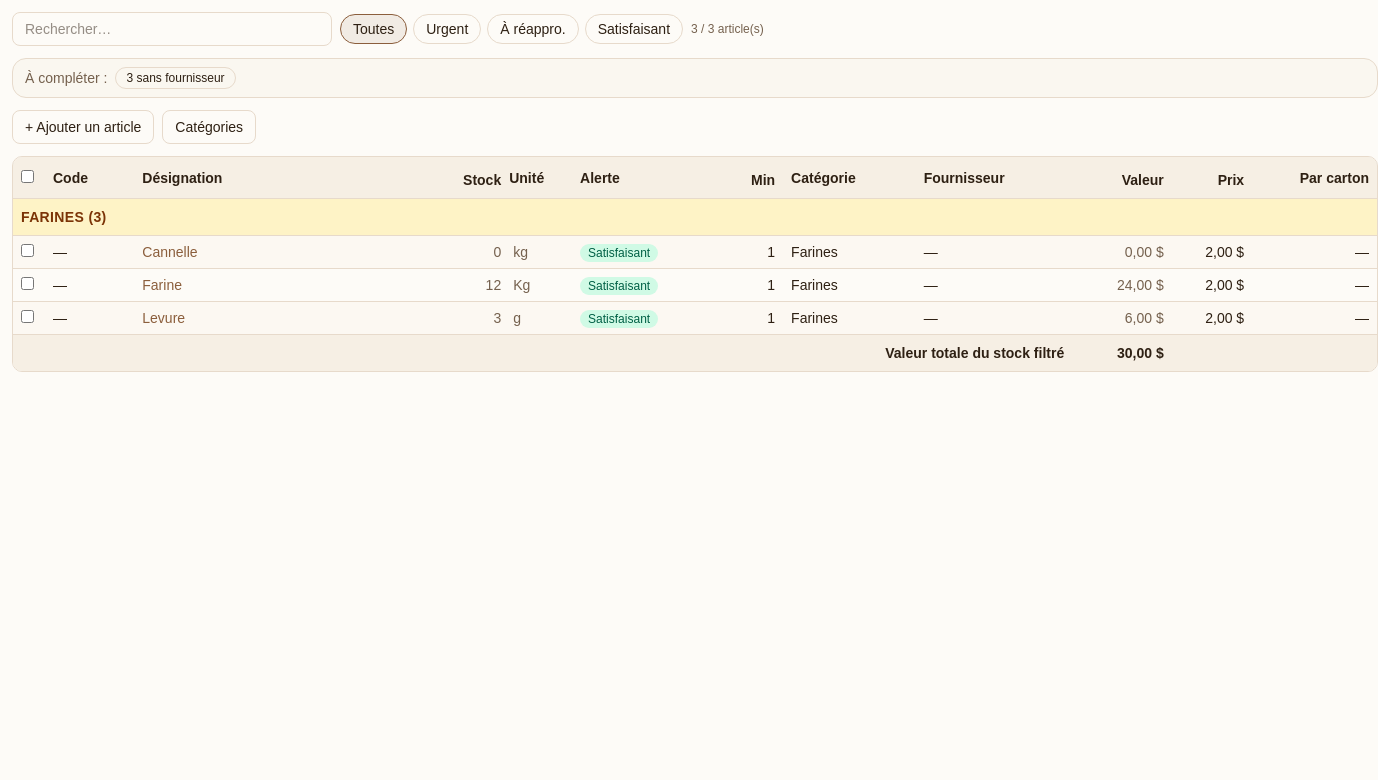
Test: suppression groupée : aperçu, confirmation, compte rendu › l'aperçu nomme ce qui part et ce qui reste ; rien n'est supprimé avant la confirmation
Click the checkbox named "Sélectionner Cannelle".
click(28, 250)  # box [21,244,34,257]
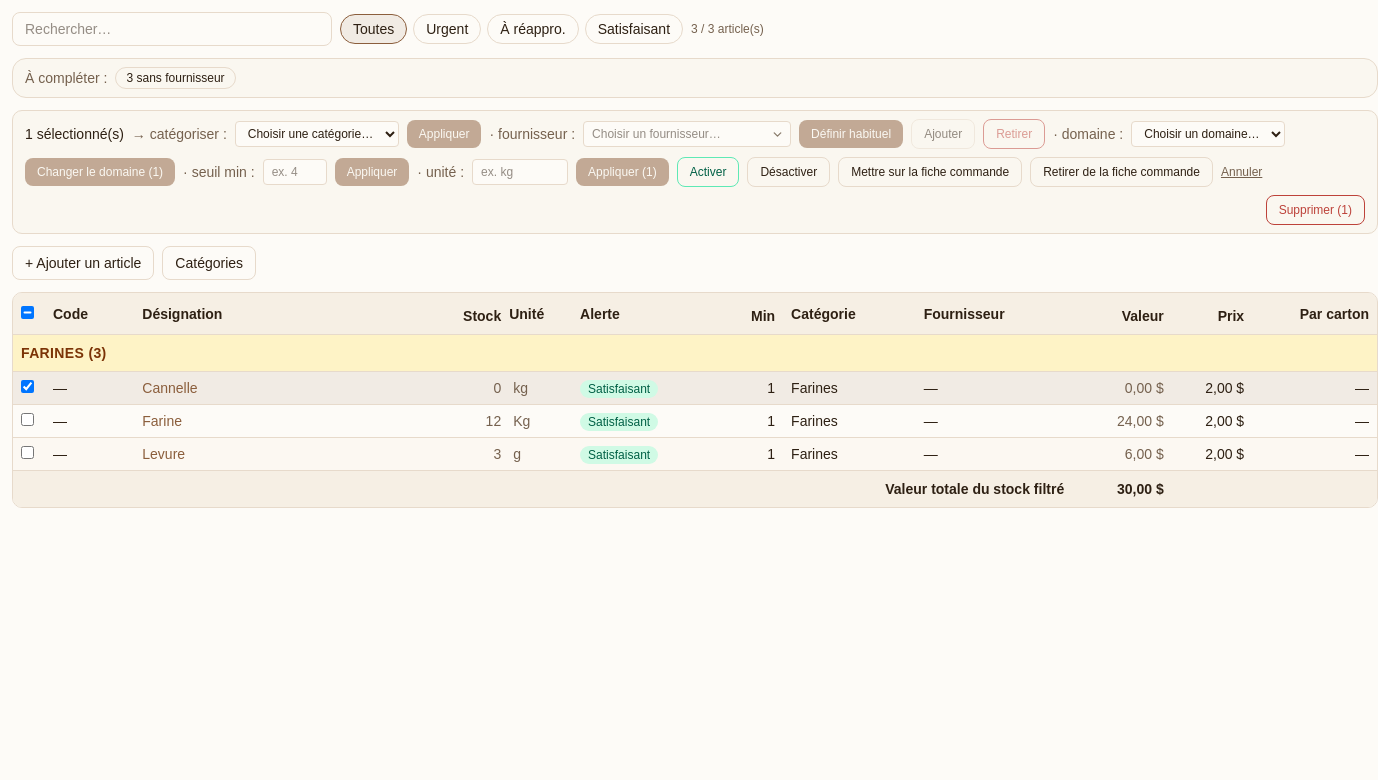
Click the checkbox named "Sélectionner Farine".
click(28, 420)  # box [21,413,34,426]
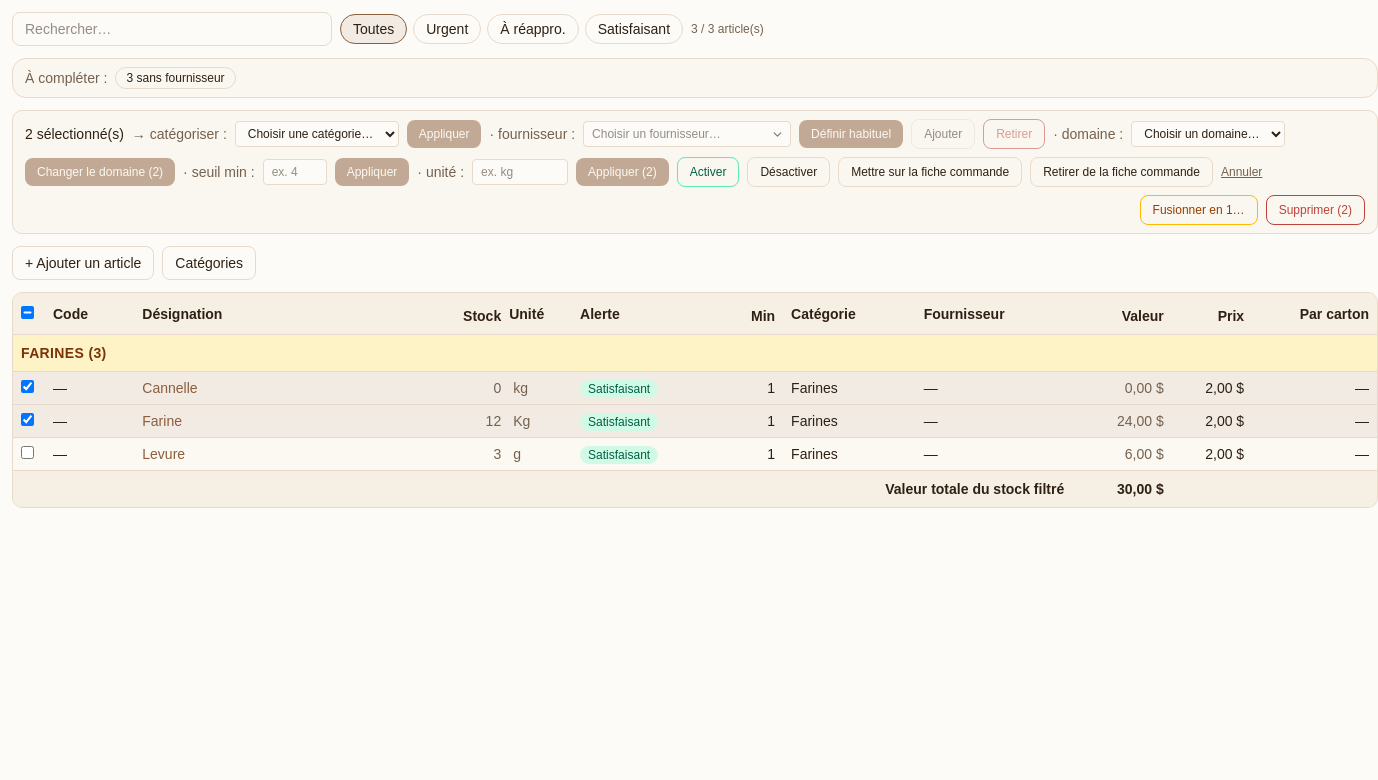
expect the button "Supprimer (2)" is shown: met
Click the button "Supprimer (2)".
click(1315, 210)  # box [1266,195,1365,225]
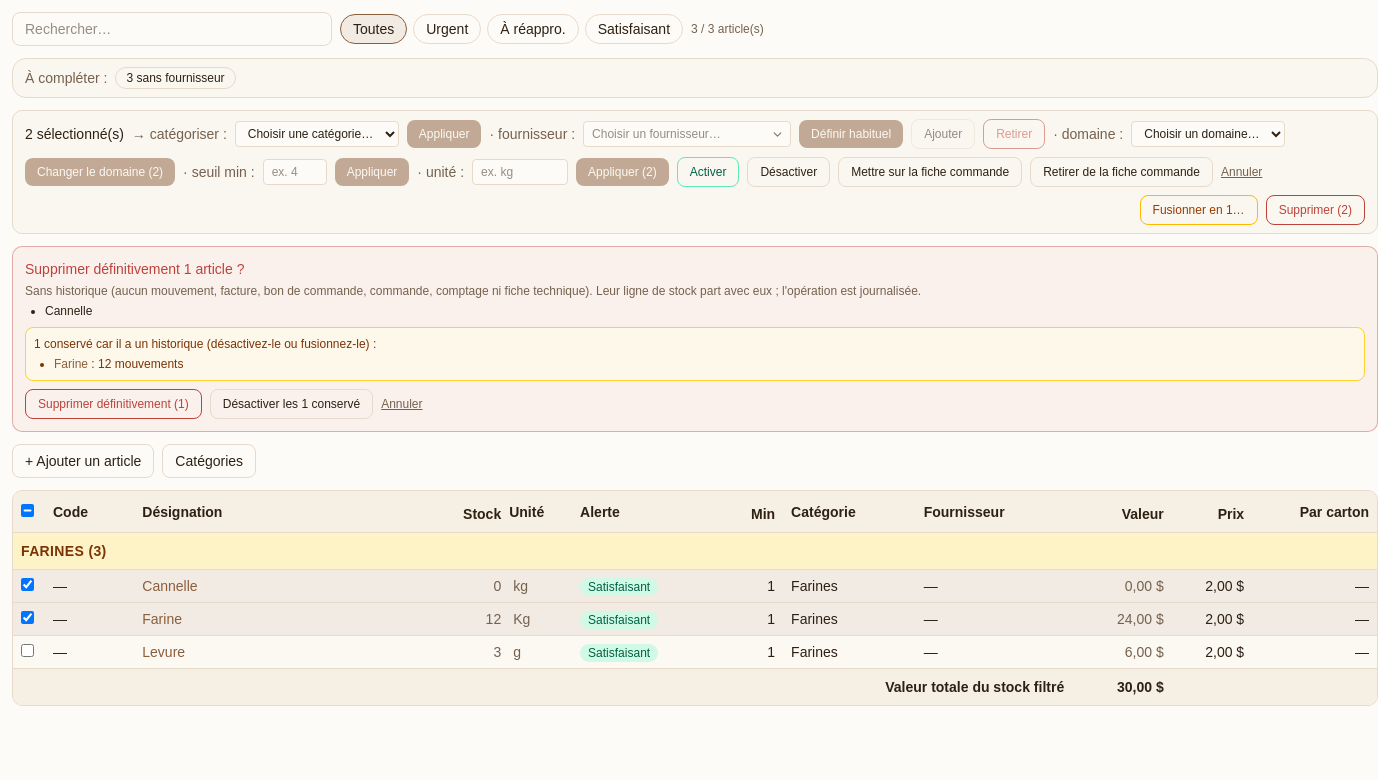
expect the element that starts with "Supprimer définitivement 1 article ?" is shown: met, box [25,261,244,277]
expect the element that starts with "Supprimer définitivement 1 article ?" shows "Cannelle": met, box [45,304,92,318]
expect the element that starts with "Supprimer définitivement 1 article ?" shows "1 conservé car il a un historique": met, box [12,246,1377,432]
